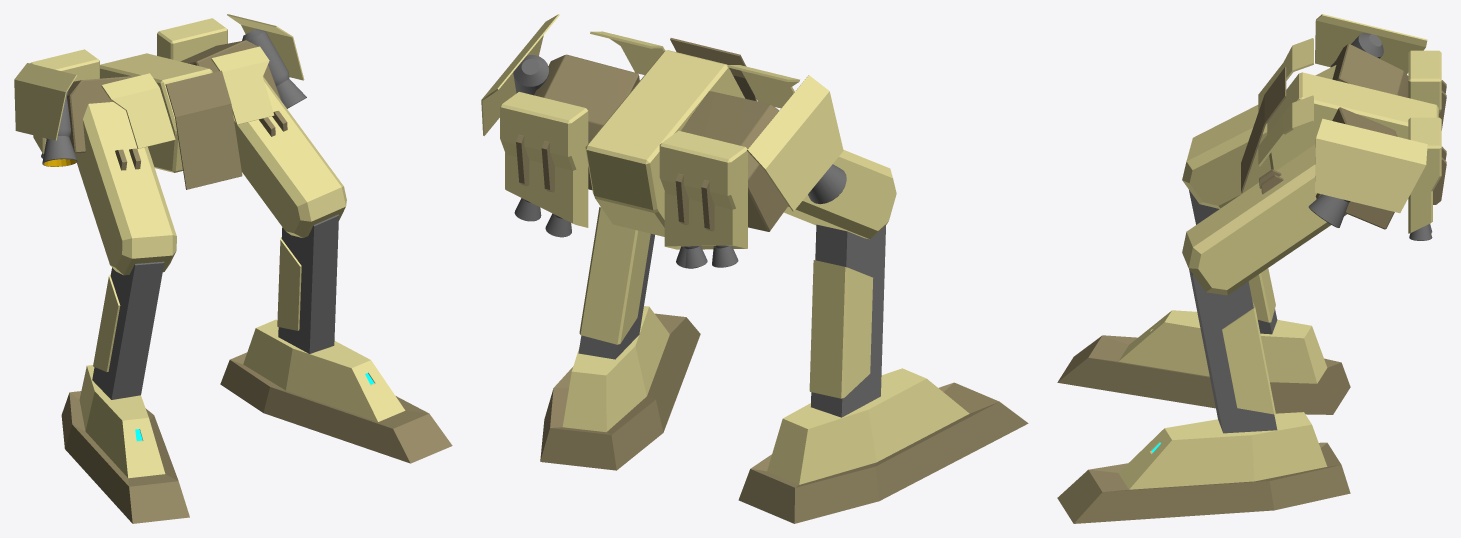
The model's file is LegsBackwards.fbx.
3 renders of one model, left to right at view 1: azimuth 30°, elevation 25°; view 2: azimuth 150°, elevation 25°; view 3: azimuth 270°, elevation 25°, orthographic. The views are drawn at different scales.
Parts seen in each view (by area): view 1: pasted__pCube47, pasted__pCube48, pasted__pCube37, pasted__pCube31, pasted__pasted__pCube36, pasted__pCube38, pasted__pCube32, pasted__pPlane1, pasted__pasted__pCube32, pasted__pCube33 (×2), pasted__pPlane4, pasted__pPlane3 (+7 smaller); view 2: pasted__pCube48, pasted__pCube47, pasted__pCube33 (×2), pasted__pasted__pCube32, pasted__pCube43, pasted__pCube39, pasted__pPlane1, pasted__pasted__pCube40, pasted__pCube38, pasted__pCube37, pasted__pasted__pCube39, pasted__pPlane2 (+8 smaller); view 3: pasted__pCube47, pasted__pCube48, pasted__pCube31, pasted__pPlane2, pasted__pasted__pCube32, pasted__pCube37, pasted__pCube32, pasted__pCube33 (×2), pasted__pPlane1, pasted__pCube43, pasted__pasted__pCube40, pasted__pCube39 (+7 smaller).
Boxes of the visible parts, <box> form: pasted__pCube47: <box>220,319,452,463</box>; pasted__pCube48: <box>61,365,189,523</box>; pasted__pCube37: <box>75,102,176,275</box>; pasted__pCube31: <box>233,76,346,237</box>; pasted__pasted__pCube36: <box>165,70,242,189</box>; pasted__pCube38: <box>92,261,164,399</box>; pasted__pCube32: <box>278,214,338,353</box>; pasted__pPlane1: <box>14,63,76,140</box>; pasted__pasted__pCube32: <box>100,53,212,172</box>; pasted__pCube33 (×2): <box>93,237,301,371</box>; pasted__pPlane4: <box>101,73,175,148</box>; pasted__pPlane3: <box>211,46,274,124</box>; pasted__pCube48: <box>738,368,1028,523</box>; pasted__pCube47: <box>540,306,700,470</box>; pasted__pCube33 (×2): <box>579,207,873,398</box>; pasted__pasted__pCube32: <box>585,50,744,236</box>; pasted__pCube43: <box>500,92,588,227</box>; pasted__pCube39: <box>659,131,747,249</box>; pasted__pPlane1: <box>747,75,843,211</box>; pasted__pasted__pCube40: <box>681,91,788,231</box>; pasted__pCube38: <box>811,224,885,417</box>; pasted__pCube37: <box>784,149,896,239</box>; pasted__pasted__pCube39: <box>534,54,639,189</box>; pasted__pPlane2: <box>481,14,559,135</box>; pasted__pCube47: <box>1057,412,1350,523</box>; pasted__pCube48: <box>1057,310,1350,414</box>; pasted__pCube31: <box>1182,144,1346,295</box>; pasted__pPlane2: <box>1315,118,1427,213</box>; pasted__pasted__pCube32: <box>1267,72,1438,170</box>; pasted__pCube37: <box>1182,65,1336,208</box>; pasted__pCube32: <box>1189,269,1277,433</box>; pasted__pCube33 (×2): <box>1222,268,1275,414</box>; pasted__pPlane1: <box>1315,14,1427,73</box>; pasted__pCube43: <box>1408,117,1441,233</box>; pasted__pasted__pCube40: <box>1332,44,1408,97</box>; pasted__pCube39: <box>1408,50,1441,113</box>.
Size of the model in its own units: 14.63 by 15.26 by 14.4.
